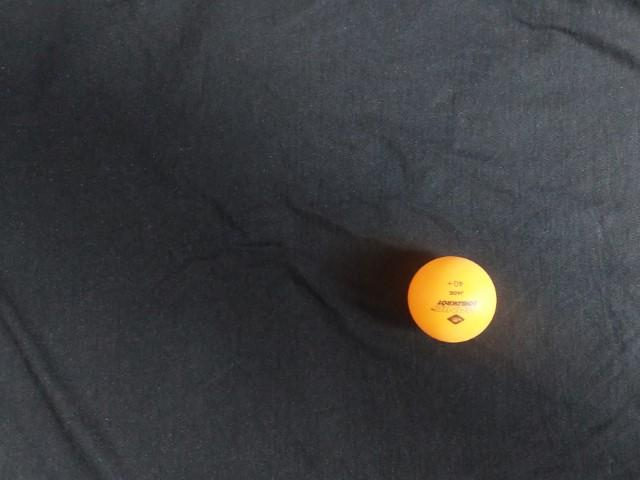oball: (137, 131, 240, 231)
